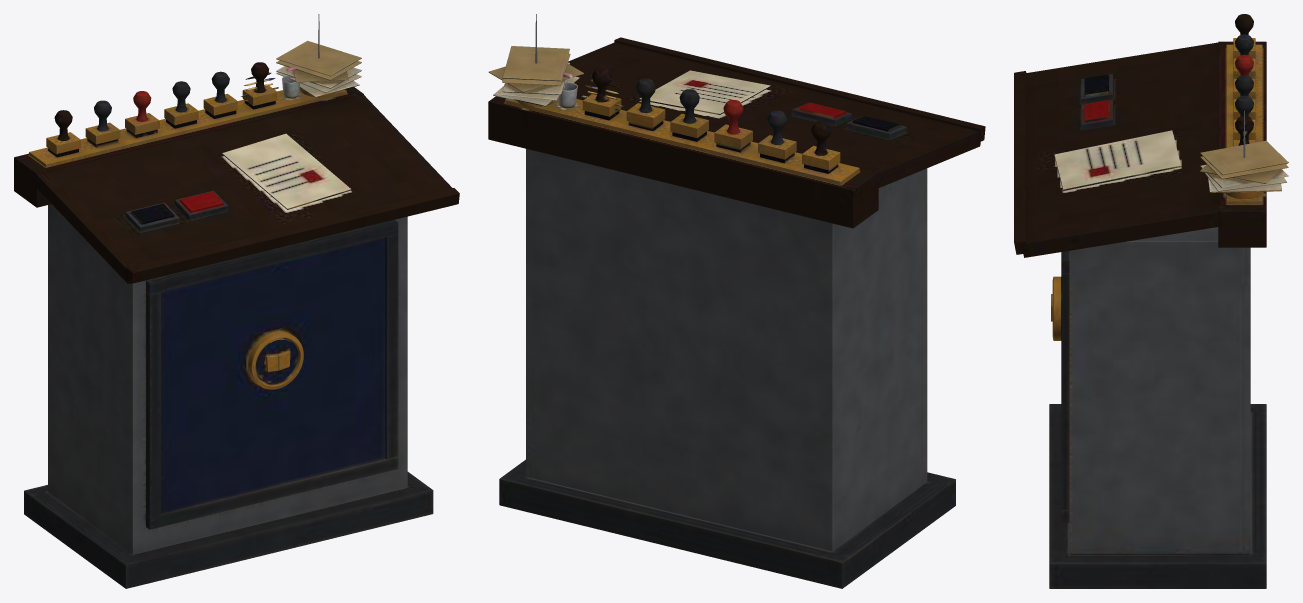
File: stamp_station.glb
3 renders of one model, left to right at view 1: azimuth 30°, elevation 25°; view 2: azimuth 150°, elevation 25°; view 3: azimuth 270°, elevation 25°, orthographic. The views are drawn at different scales.
Parts seen in each view (by area): view 1: stamp_station; view 2: stamp_station; view 3: stamp_station.
Part boxes in pixels (<box>): stamp_station: <box>14,14,459,588</box>; stamp_station: <box>488,14,985,588</box>; stamp_station: <box>1014,14,1288,588</box>.
Size of the model in its own units: 1 by 1.28 by 0.683.
Materials: 1 (1 with a texture image).
